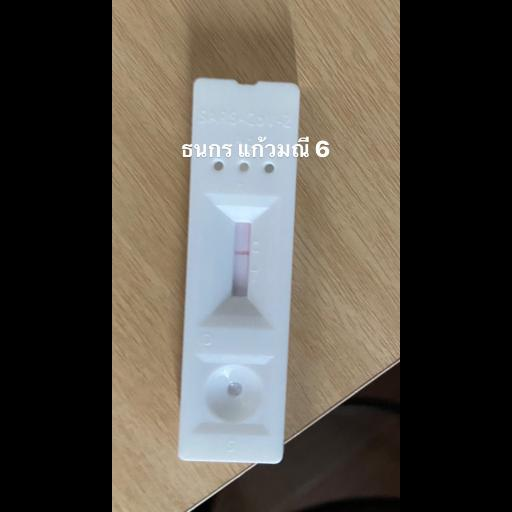Neg: (179, 74, 301, 468)
